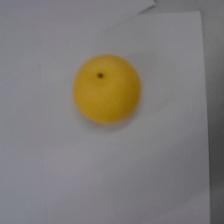yellow: (73, 55, 141, 124)
